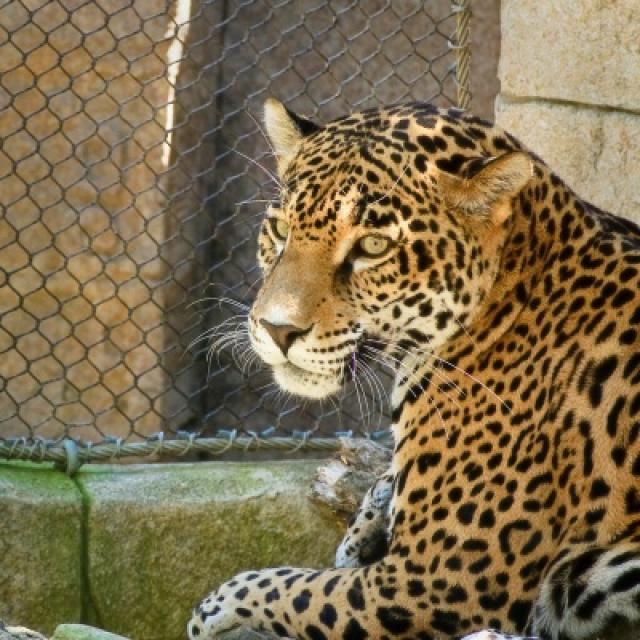Jaguar: (186, 98, 638, 638)
